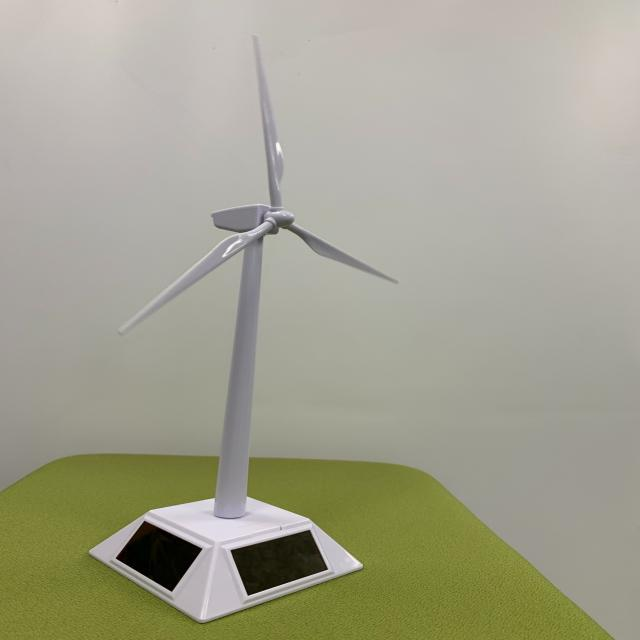solid-blade: (118, 221, 275, 334), (286, 224, 398, 283), (253, 35, 284, 207)
wind-turbine: (119, 35, 396, 518)
